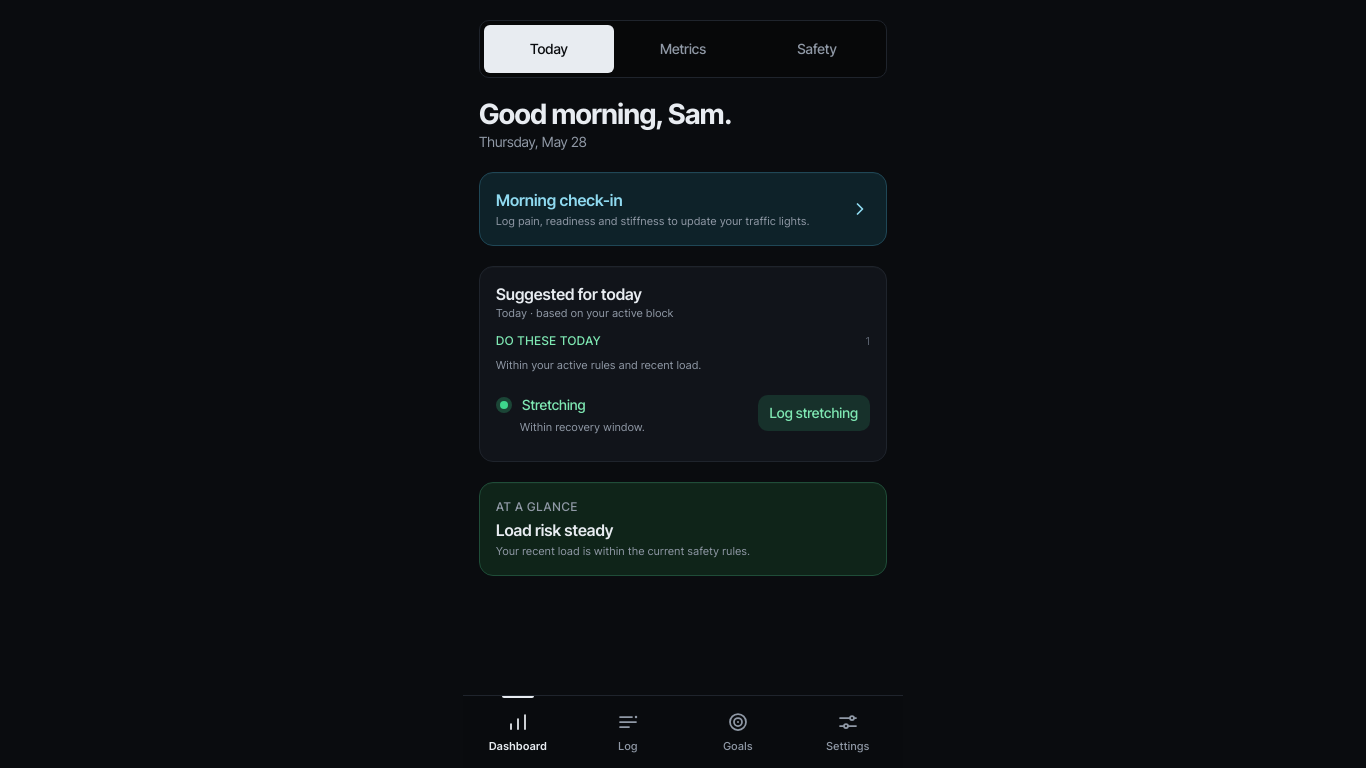
InlineLogSheet quick-log contract (F9.10) › submits a production LogDraft and closes the sheet
The width and height of the screenshot is (1366, 768).
Click the button "Log stretching" at (814, 413), box [758, 395, 870, 431]
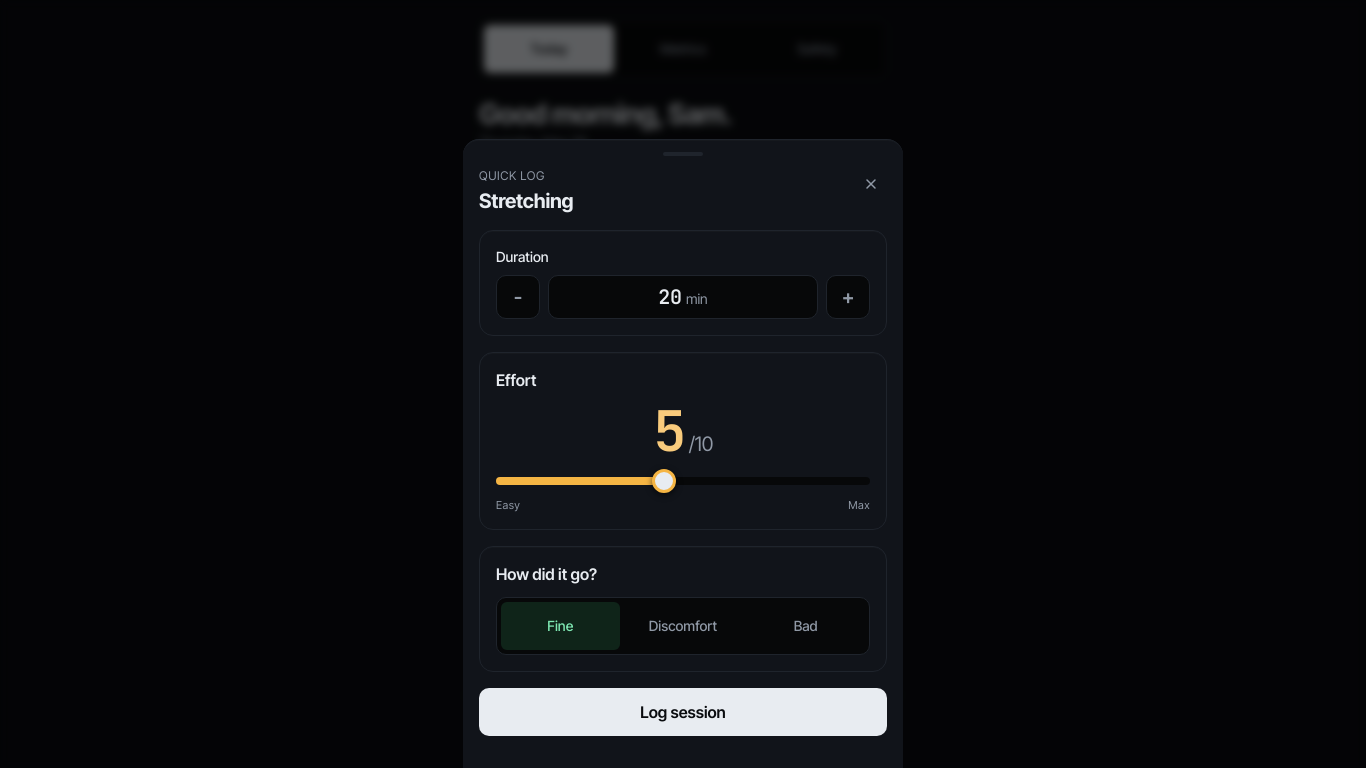
Result: the button named "Decrease" is shown at [496, 275, 540, 319]
Result: the button named "Increase" is shown at [826, 275, 870, 319]
Result: the slider is shown at [496, 477, 870, 485]
Click the button "Log session" at (683, 712), box [479, 688, 887, 736]
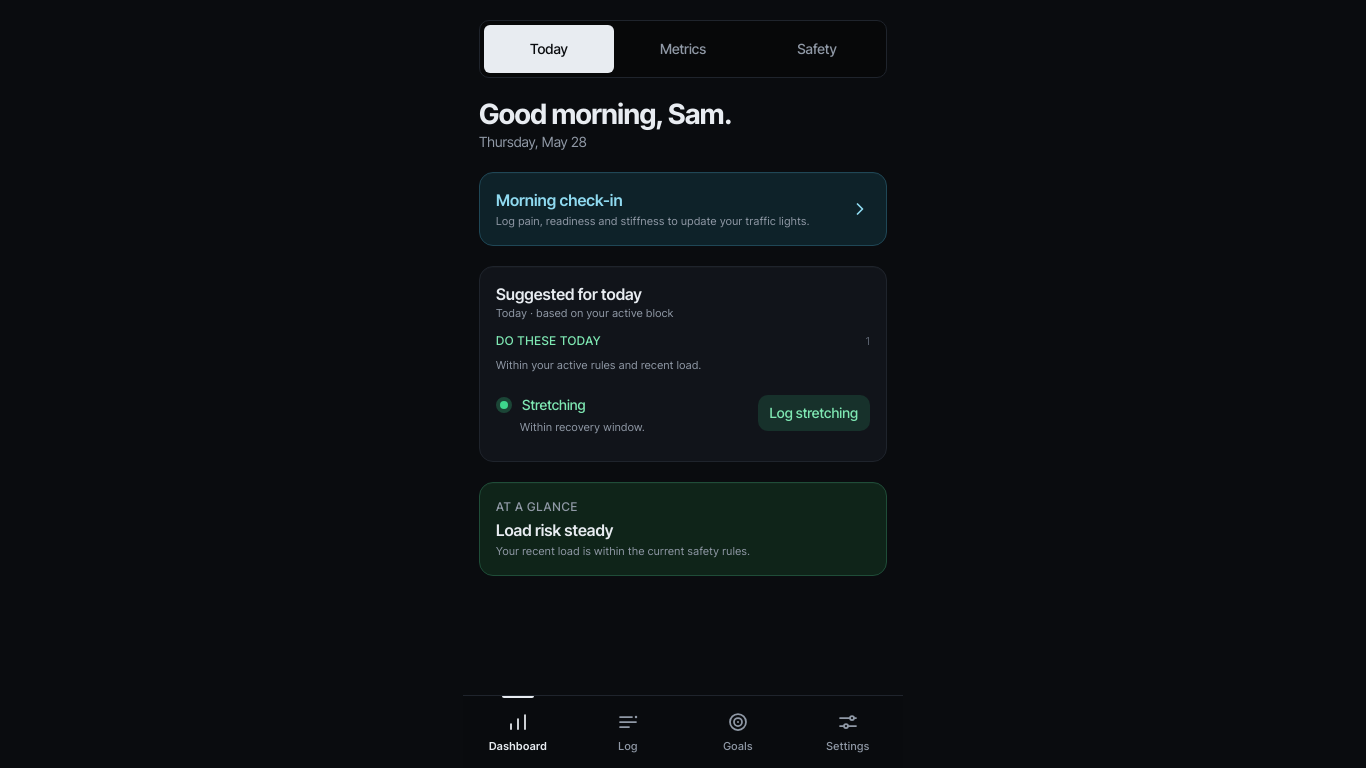
Result: the text "Quick log" is gone
